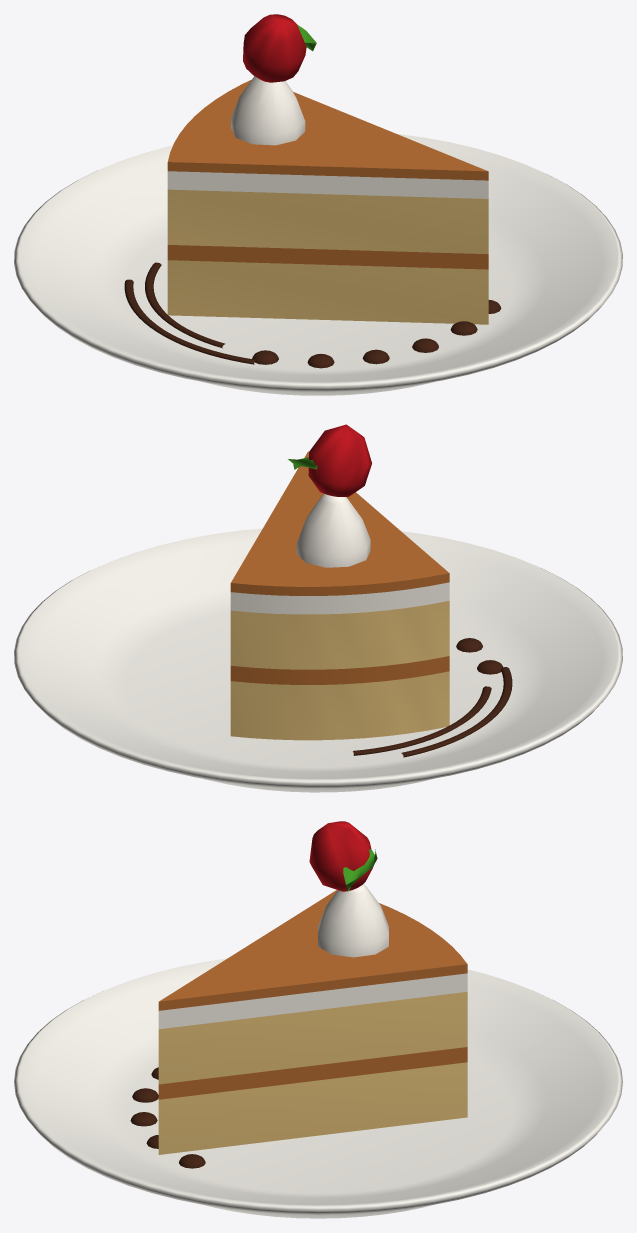
Rendered from postre.glb.
3 renders of one model, top to bottom at view 1: azimuth 30°, elevation 25°; view 2: azimuth 150°, elevation 25°; view 3: azimuth 270°, elevation 25°, orthographic.
Parts seen in each view (by area): view 1: postre; view 2: postre; view 3: postre.
Boxes of the visible parts, <box> form: postre: <box>14,14,622,395</box>; postre: <box>14,424,622,792</box>; postre: <box>14,821,622,1218</box>.
Size of the model in its own units: 0.18 by 0.0997 by 0.18.
